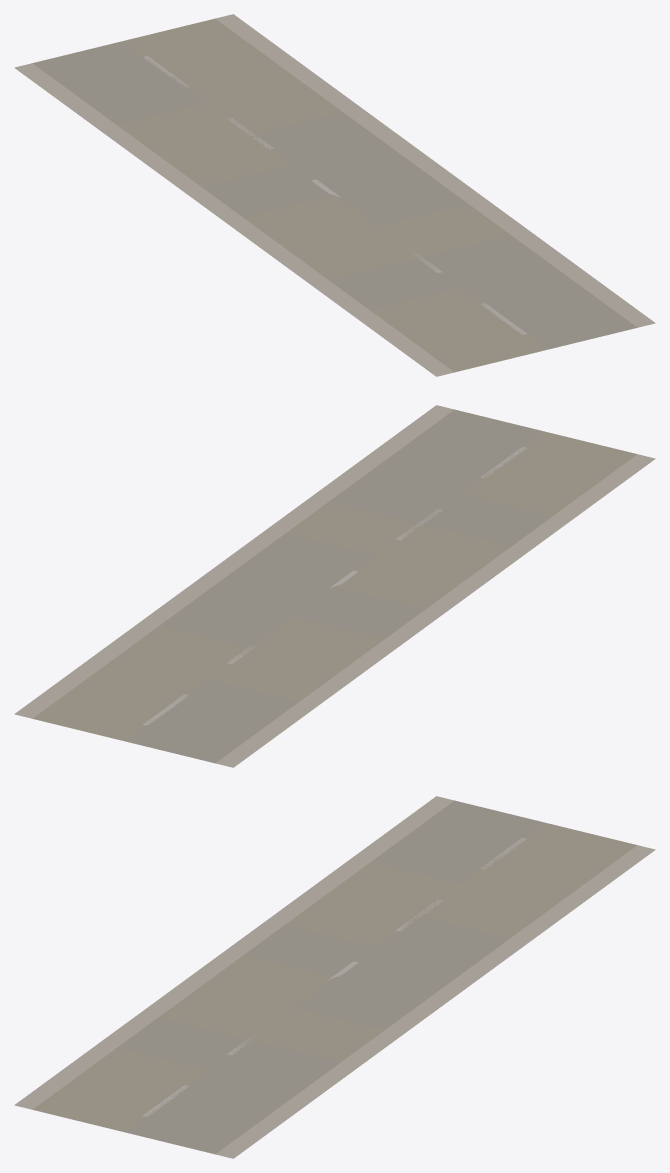
The model's file is nrod.obj.
3 views of the same model, one above another, from view 1: azimuth 30°, elevation 25°; view 2: azimuth 150°, elevation 25°; view 3: azimuth 330°, elevation 25° (orthographic).
Bounding box in the file's own units: 1680 × 0 × 5600.
